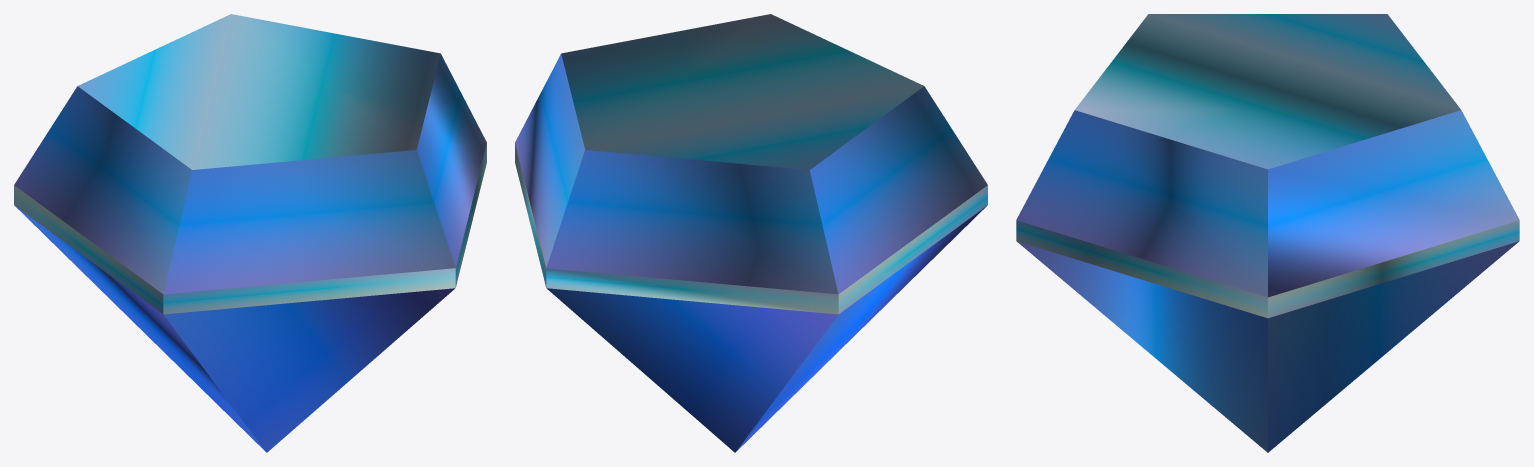
File: gem01.fbx
The picture shows the model from 3 angles, left to right: view 1: azimuth 30°, elevation 25°; view 2: azimuth 150°, elevation 25°; view 3: azimuth 270°, elevation 25°; orthographic projection. The views are drawn at different scales.
Visible parts, largest first — view 1: gem01; view 2: gem01; view 3: gem01.
Boxes of the visible parts, x1=… form: gem01: x1=14, y1=14, x2=486, y2=452; gem01: x1=515, y1=14, x2=987, y2=452; gem01: x1=1016, y1=14, x2=1519, y2=452.
Size of the model in its own units: 81.59 by 69.9 by 85.79.
